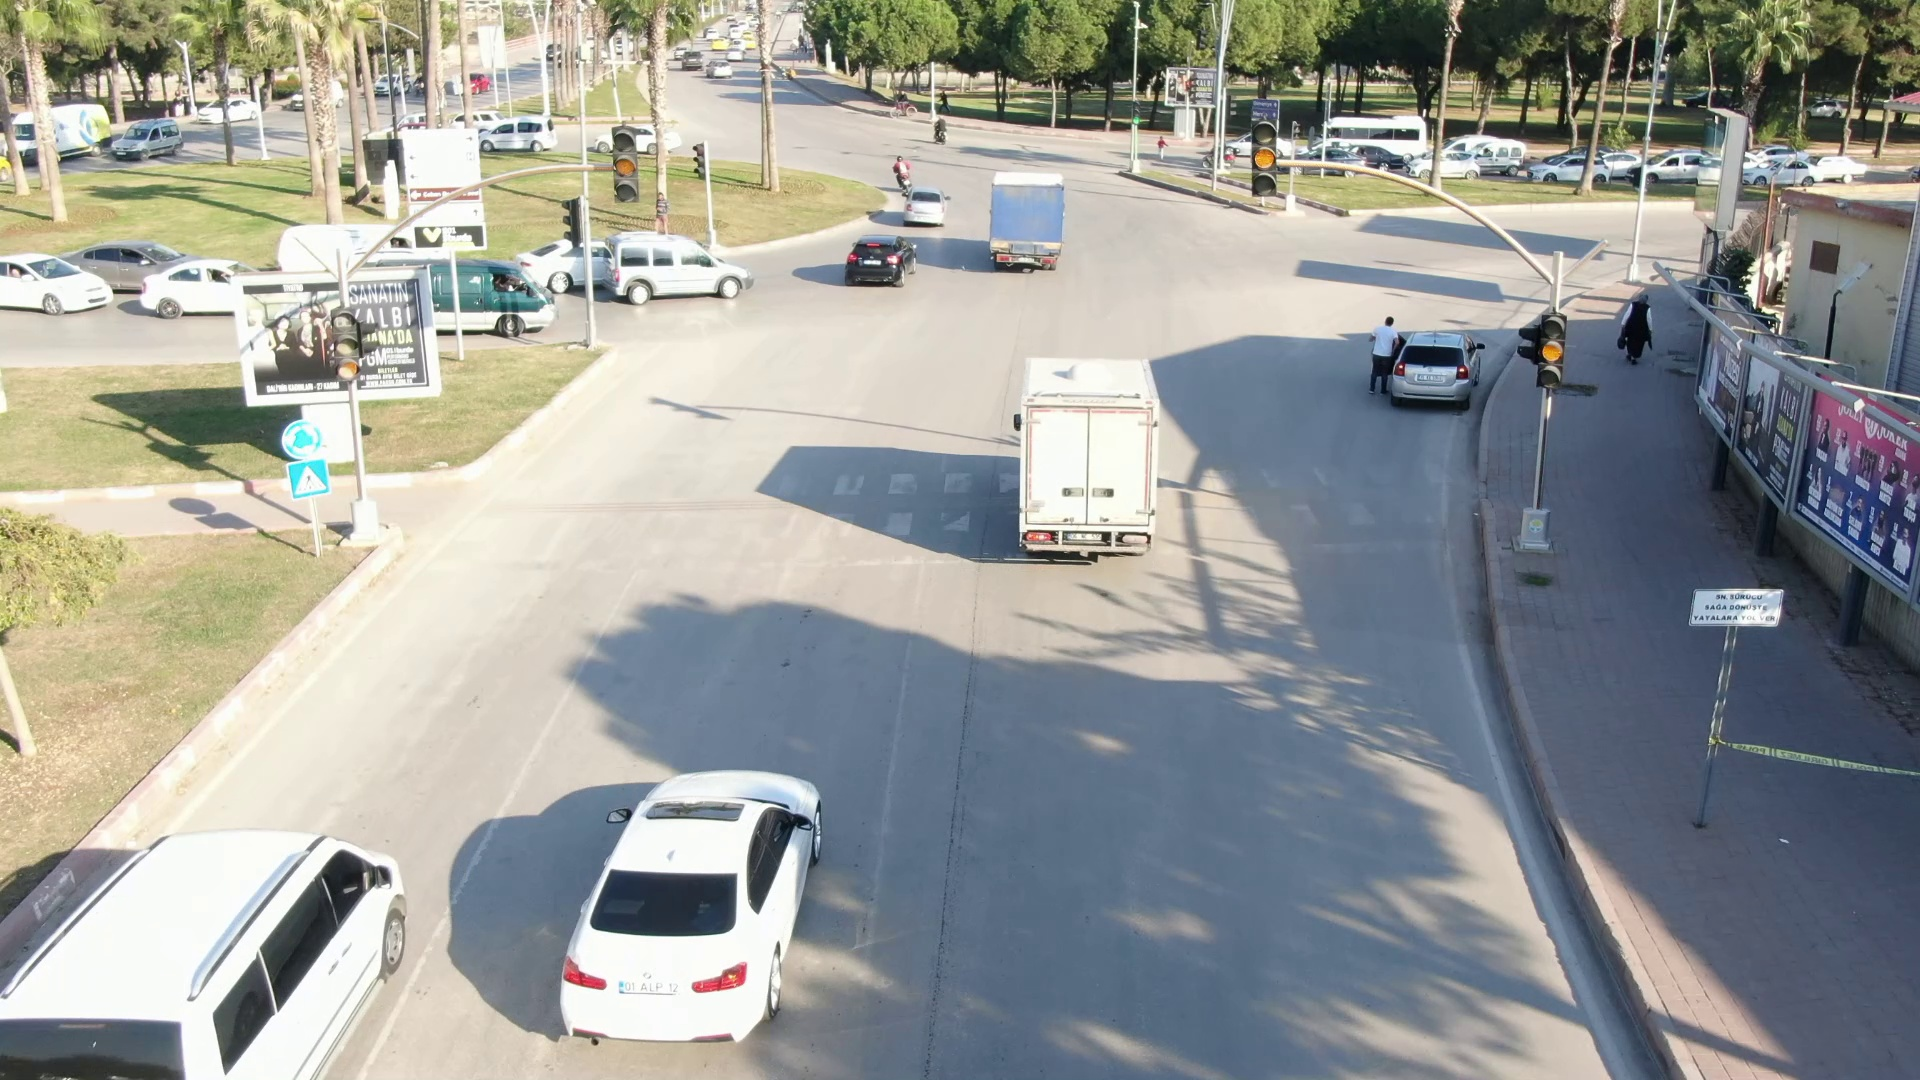car: (4, 754, 442, 1080), (548, 740, 857, 1047), (995, 340, 1189, 580), (596, 229, 764, 311), (975, 155, 1077, 279), (1395, 324, 1498, 411), (837, 222, 932, 294), (891, 182, 962, 235)
person: (1614, 286, 1656, 365), (1365, 311, 1400, 402)
